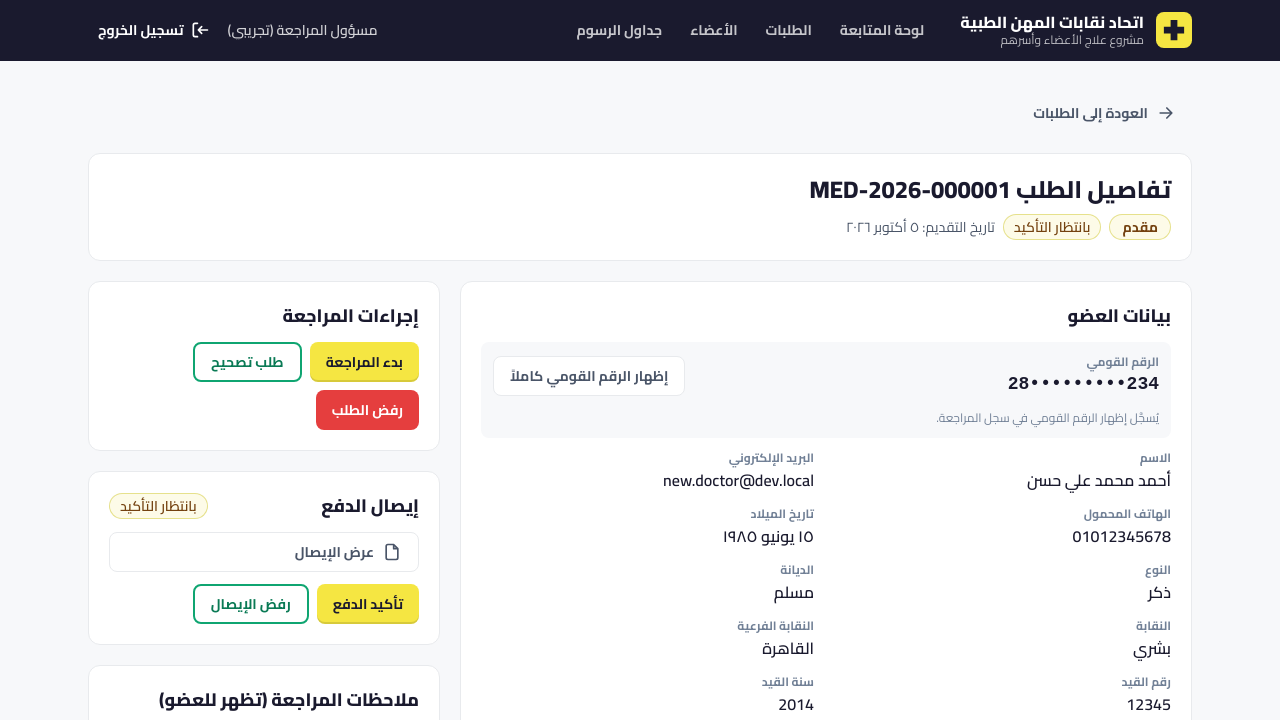
Scenario: AdminApplicationDetailPage (PROMPT.md §44) › confirms the payment and shows the updated status
The width and height of the screenshot is (1280, 720).
Expected: the heading "تفاصيل الطلب MED-2026-000001" is shown, [810,174,1171,206]
Click the button "تأكيد الدفع".
click(368, 604)  # box [317,584,419,624]
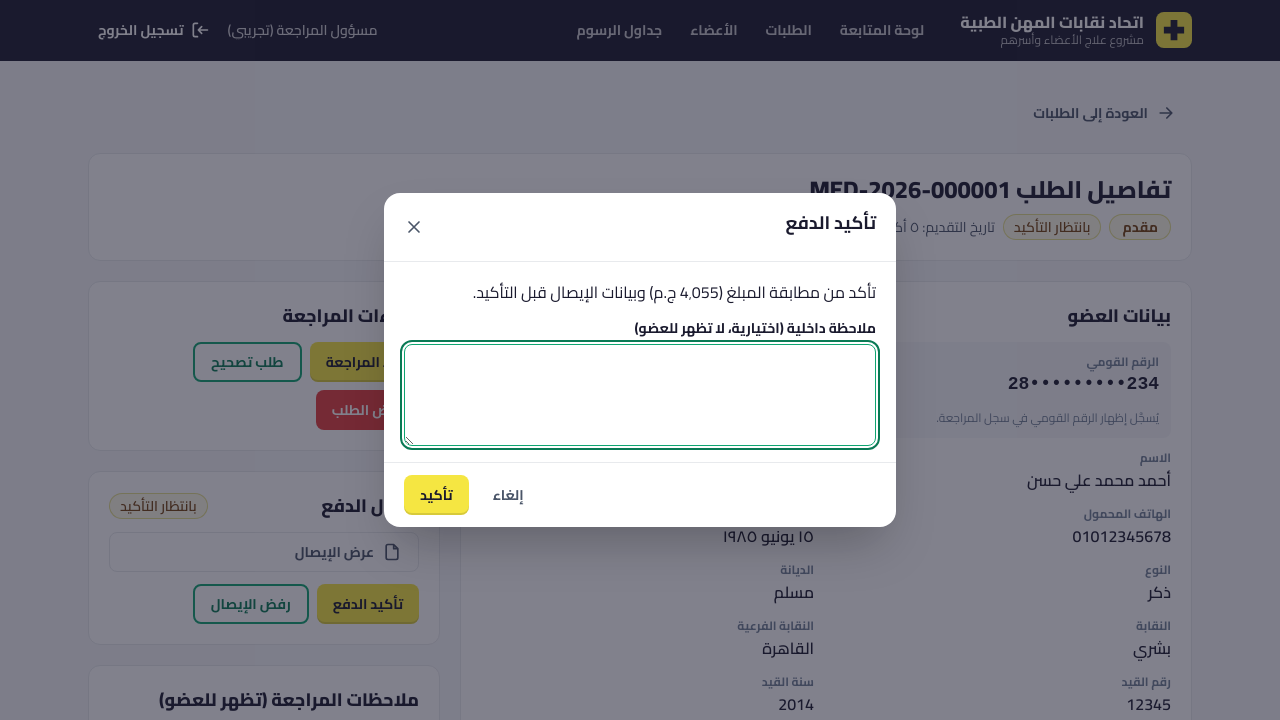
Result: the dialog "تأكيد الدفع" shows "4٬055 ج.م" at [473,277,876,307]
Type "مطابق لكشف البنك" into the text box.
click(640, 395); type("مطابق لكشف البنك")  # box [404,344,876,446]
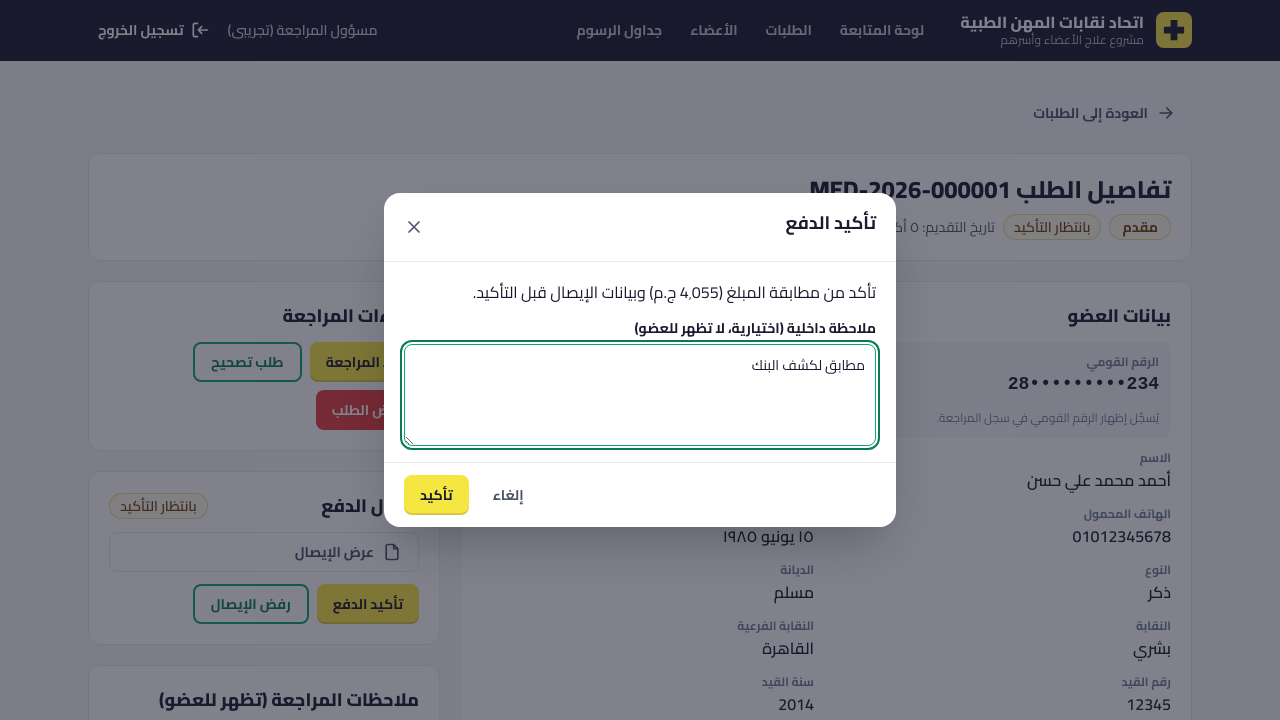
Click the button "تأكيد".
click(436, 495)  # box [404,475,469,515]
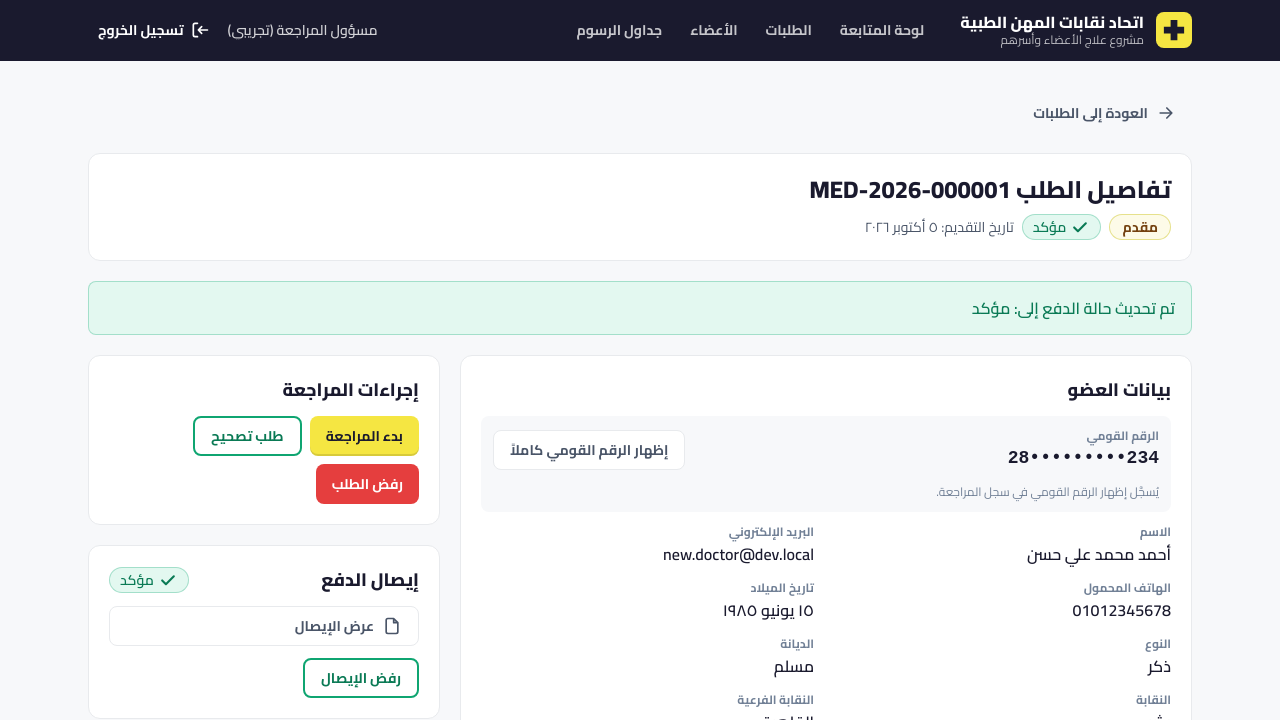
Expected: the button "رفض الإيصال" is shown, [303,658,419,698]
Result: the text "تم تحديث حالة الدفع إلى: مؤكد" is shown at [88,281,1192,335]
Result: the button "تأكيد الدفع" is gone
